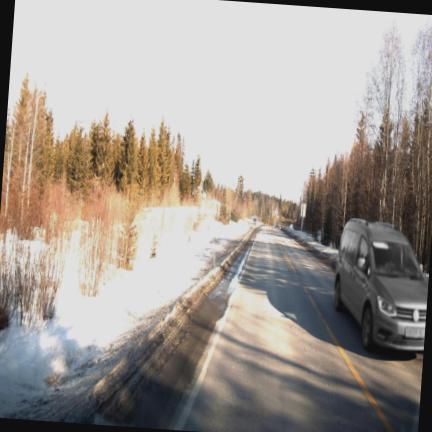Road: (172, 228, 422, 431)
